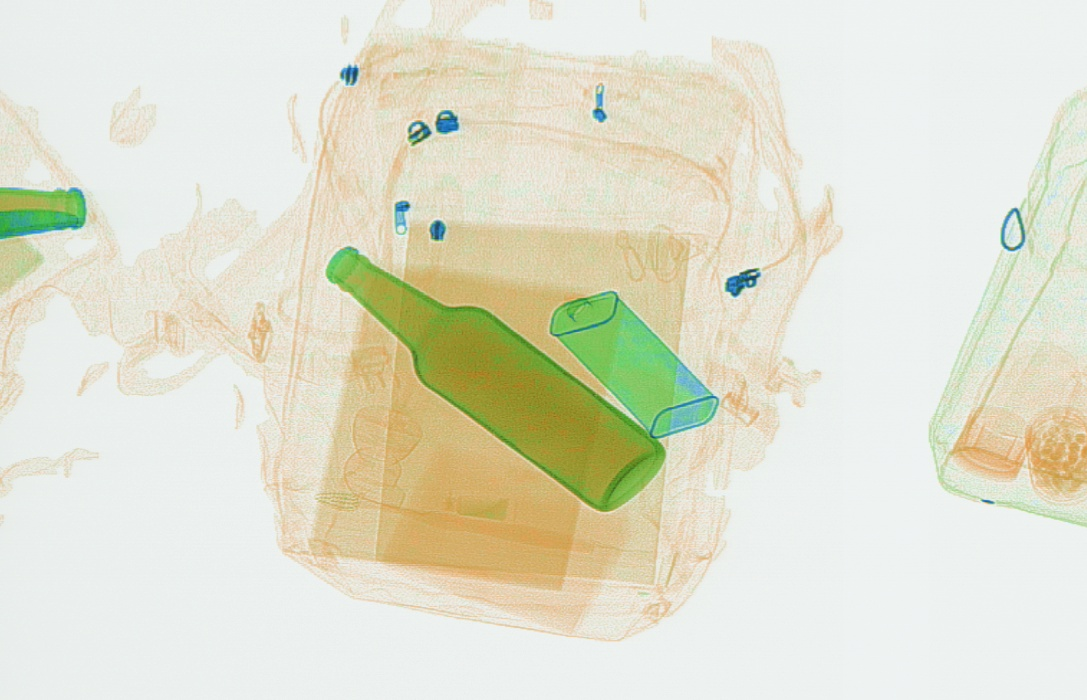zippooil: (549, 289, 718, 439)
